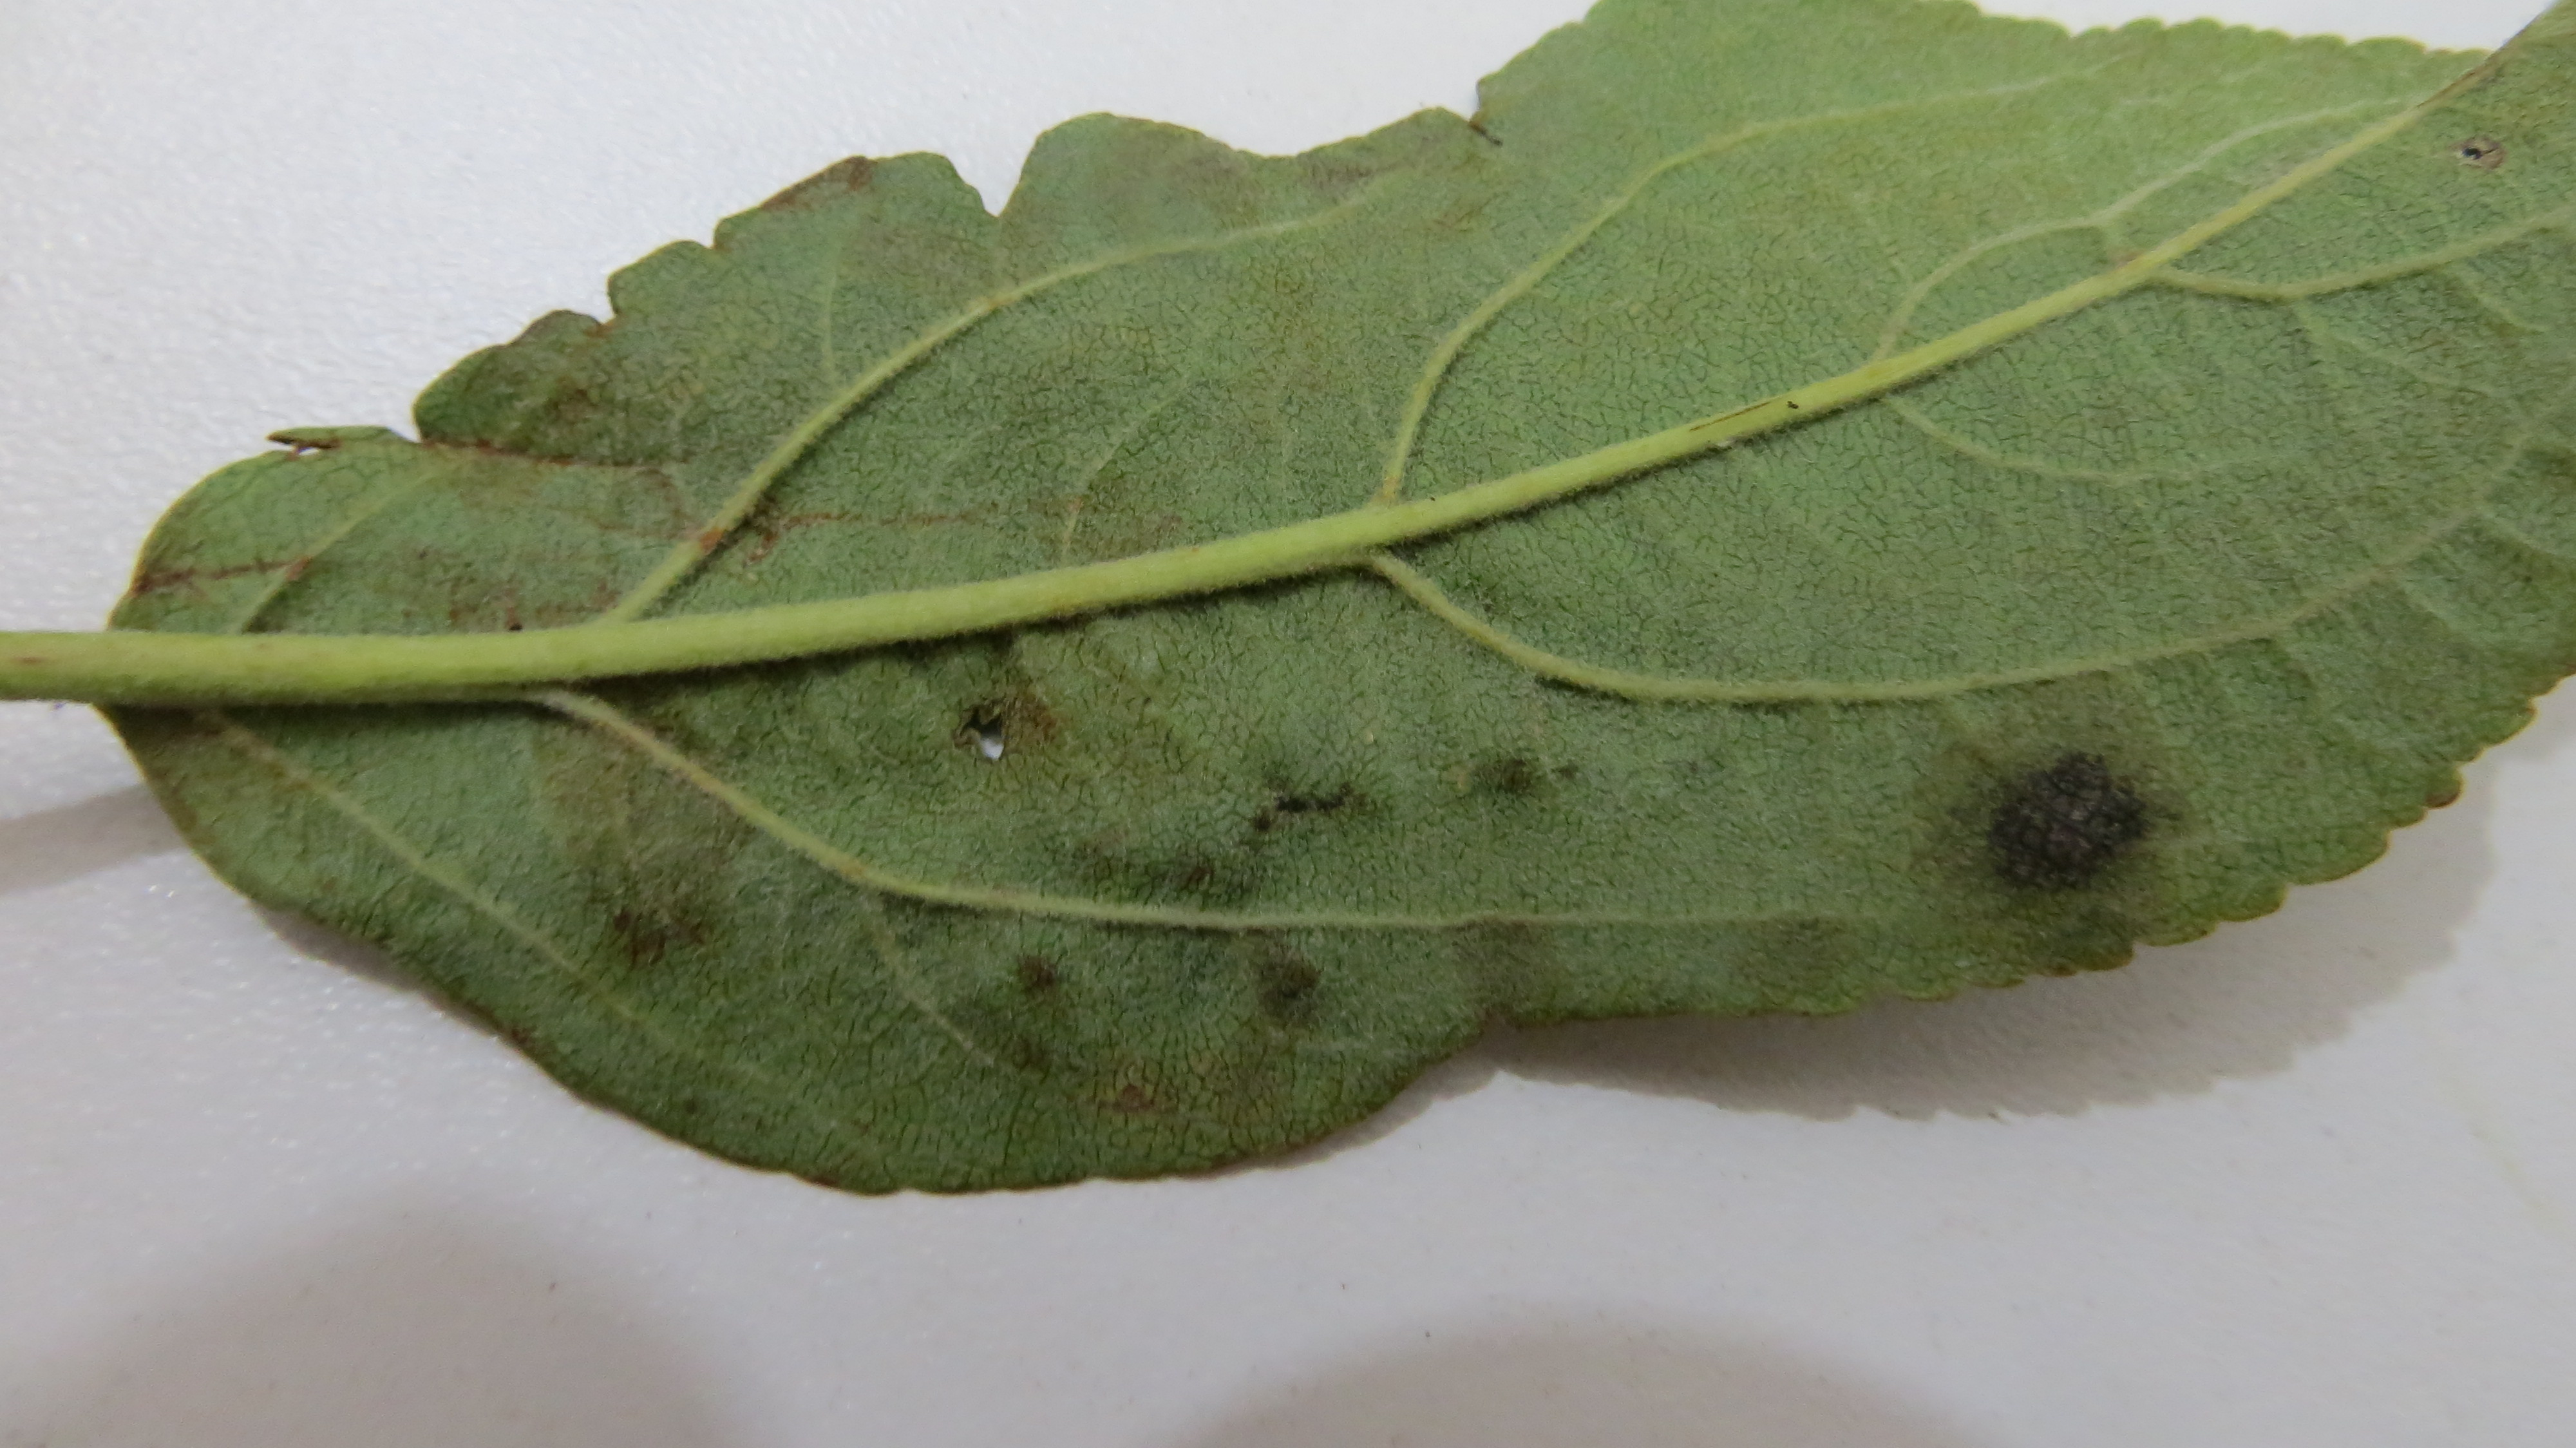sarna: (1909, 710, 2180, 938), (534, 683, 752, 956), (402, 524, 612, 635), (1235, 731, 1401, 853), (1435, 905, 1587, 1011), (1070, 823, 1242, 908), (947, 673, 1083, 777), (1219, 919, 1332, 1037), (1456, 726, 1557, 820), (780, 140, 901, 214), (984, 1014, 1069, 1089), (989, 933, 1076, 1000), (1109, 1060, 1178, 1129)
